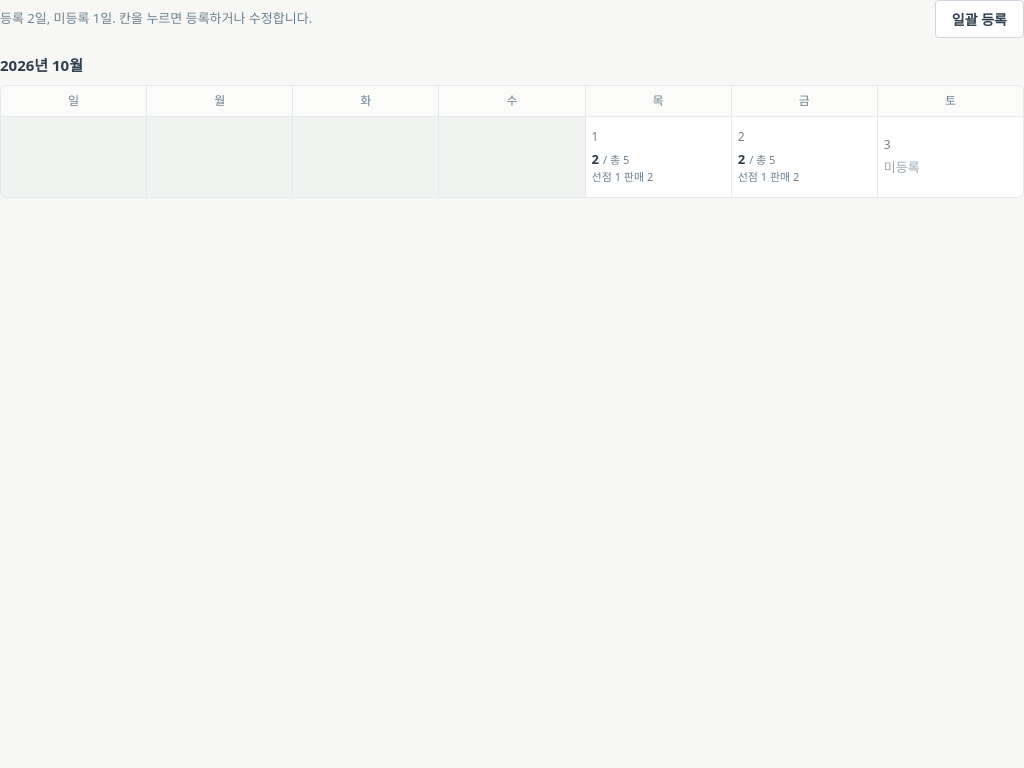
H4 재고 달력 › 서버가 INVENTORY_BELOW_COMMITTED를 내면 INV-05를 다시 읽어 그 숫자로 문구를 채운다
The width and height of the screenshot is (1024, 768).
Click the button with aria-label "2026-10-01" at (658, 156), box [586, 116, 731, 196]
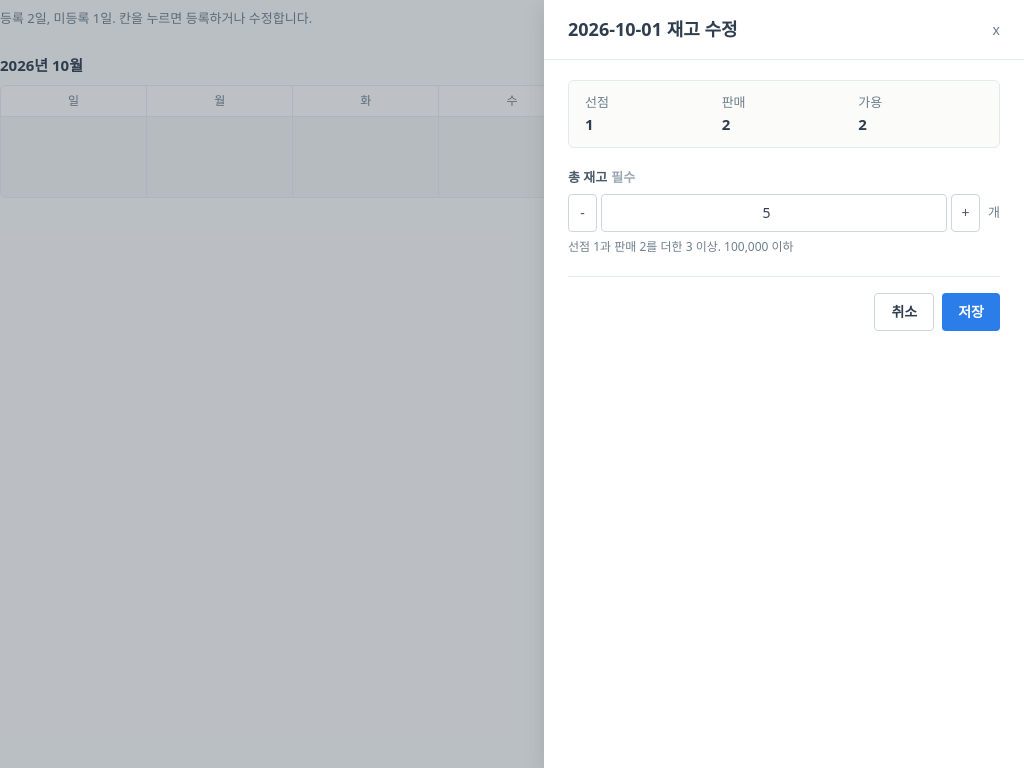
Expected: the number field labelled "총 재고" holds "5"
Replace the text in the number field labelled "총 재고" with "3" at (774, 212), box [601, 194, 947, 232]
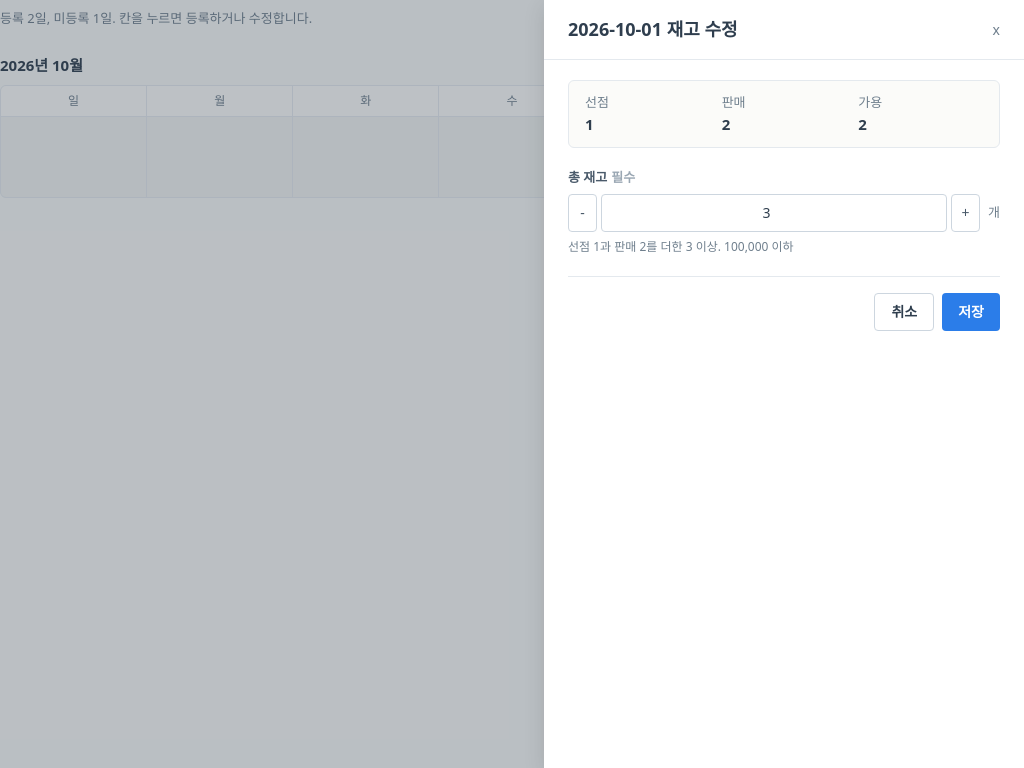
Click the button "저장" at (971, 312), box [942, 292, 1000, 330]
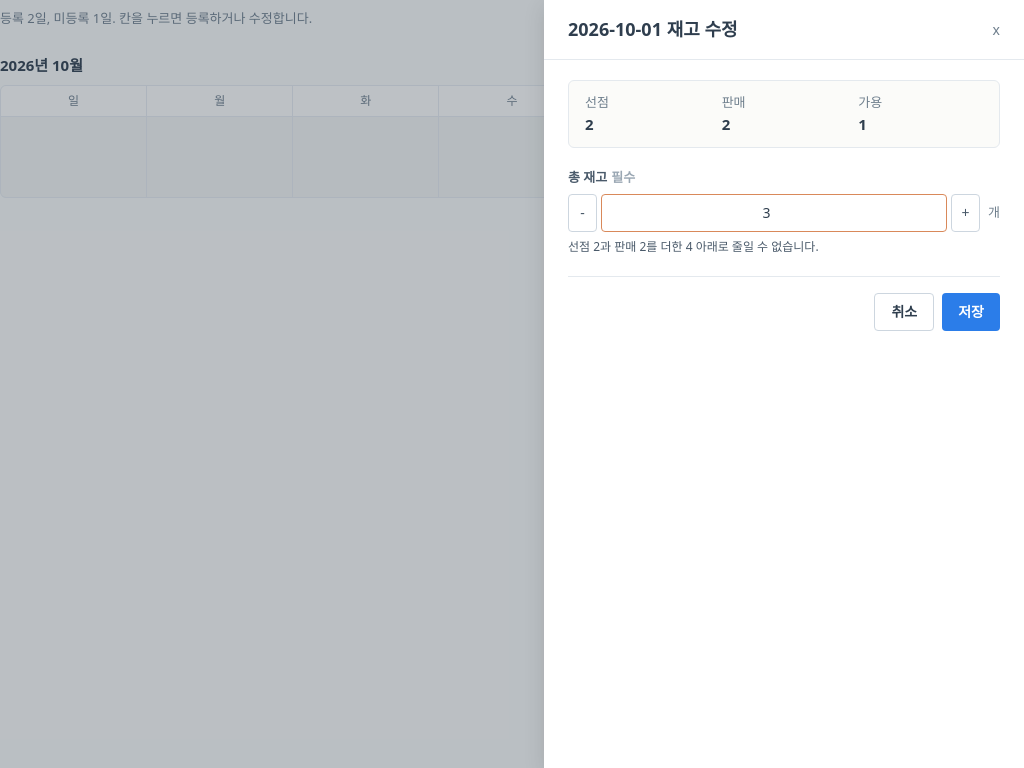
Expected: the text "선점 2과 판매 2를 더한 4 아래로 줄일 수 없습니다." is shown, [568, 238, 819, 254]
